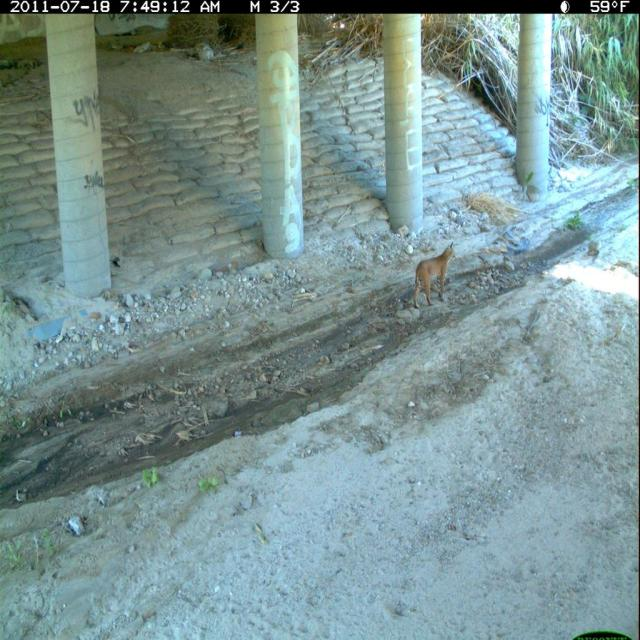bobcat: (410, 239, 459, 313)
